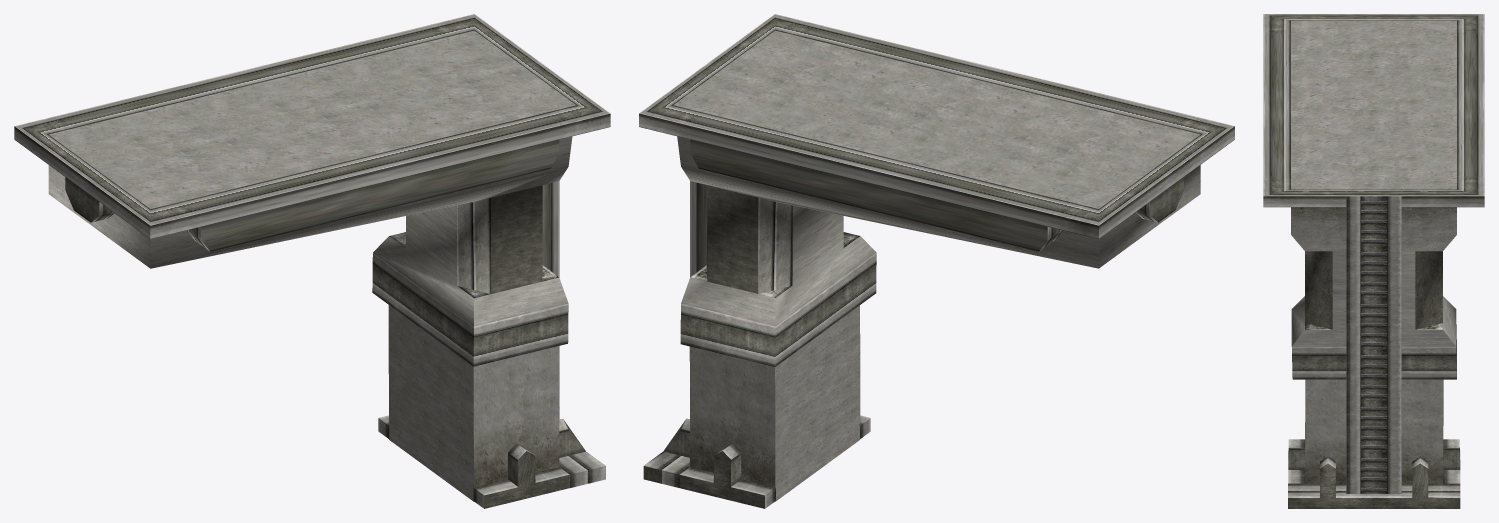
File: DWARF_PALACE_WATER_ROOM_PILLER.fbx
3 renders of one model, left to right at view 1: azimuth 30°, elevation 25°; view 2: azimuth 150°, elevation 25°; view 3: azimuth 270°, elevation 25°, orthographic. The views are drawn at different scales.
Visible parts, largest first — view 1: DWARF_PALACE_WATER_ROOM_PILLER; view 2: DWARF_PALACE_WATER_ROOM_PILLER; view 3: DWARF_PALACE_WATER_ROOM_PILLER.
Boxes of the visible parts, x1,y1,x2,y2 form: DWARF_PALACE_WATER_ROOM_PILLER: (14, 14, 610, 508); DWARF_PALACE_WATER_ROOM_PILLER: (639, 14, 1234, 508); DWARF_PALACE_WATER_ROOM_PILLER: (1263, 14, 1484, 508).
Size of the model in its own units: 110215 by 85082 by 55182.
Materials: 8 (8 with a texture image).
